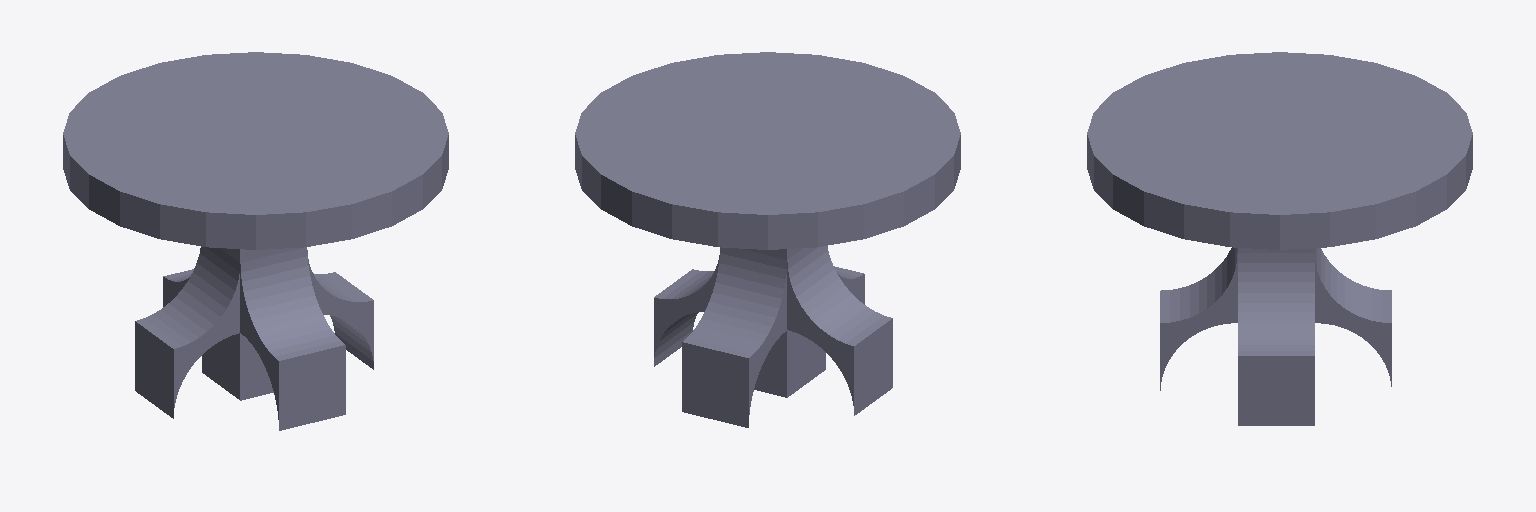
Rendered from StoneCircleTable.obj.
3 renders of one model, left to right at view 1: azimuth 30°, elevation 25°; view 2: azimuth 150°, elevation 25°; view 3: azimuth 270°, elevation 25°, orthographic.
Parts seen in each view (by area): view 1: mergedBlocks; view 2: mergedBlocks; view 3: mergedBlocks.
Part boxes in pixels (left/top/right/bottom): mergedBlocks: left=63, top=52, right=448, bottom=430; mergedBlocks: left=575, top=52, right=960, bottom=427; mergedBlocks: left=1087, top=52, right=1472, bottom=425.
Size of the model in its own units: 0.7 by 0.49 by 0.7.